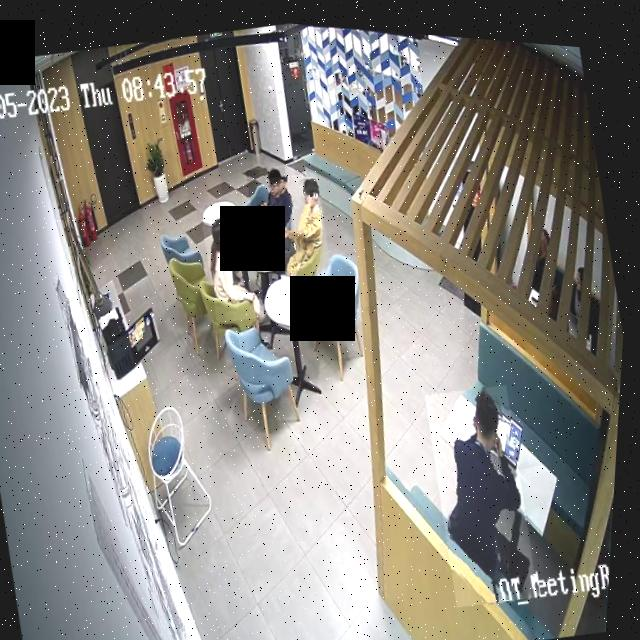person: (420, 370, 555, 604), (265, 163, 340, 284), (199, 205, 273, 322), (244, 158, 300, 238)
